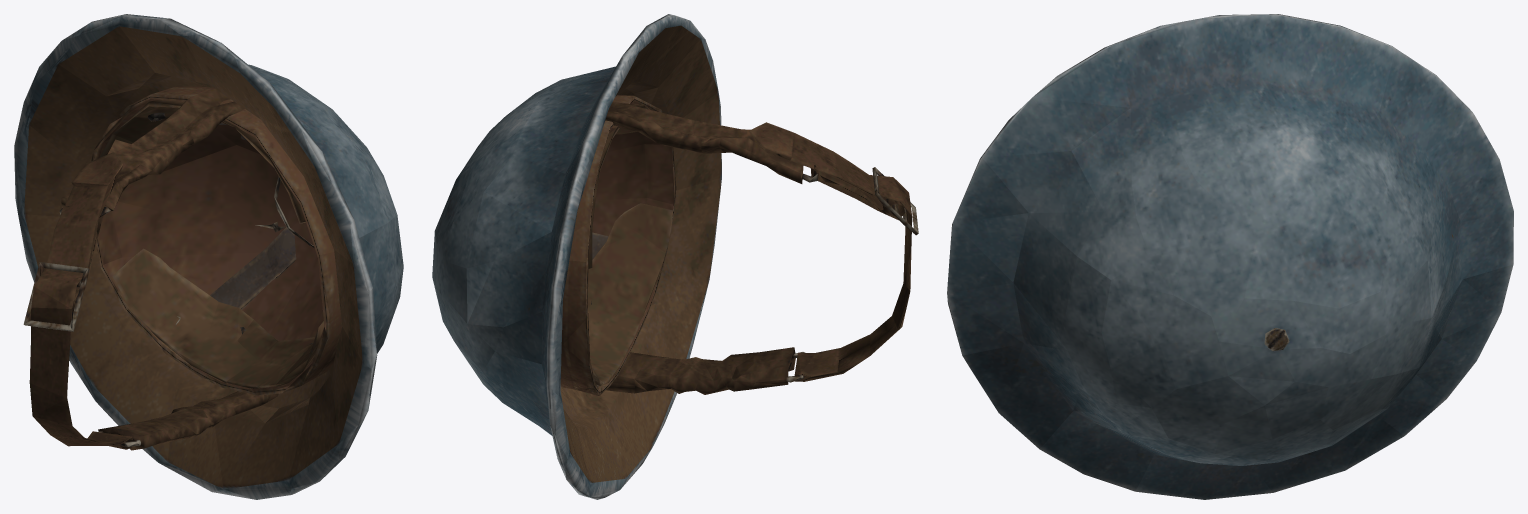
File: F_BrodieHelmet.fbx
3 views of the same model, side by side, from view 1: azimuth 30°, elevation 25°; view 2: azimuth 150°, elevation 25°; view 3: azimuth 270°, elevation 25° (orthographic). The views are drawn at different scales.
Parts seen in each view (by area): view 1: BrodieHelmet; view 2: BrodieHelmet; view 3: BrodieHelmet.
Part boxes in pixels (box(x1,y1,x2,y2)): BrodieHelmet: box(14, 14, 403, 499); BrodieHelmet: box(432, 14, 918, 499); BrodieHelmet: box(947, 14, 1513, 499).
Bounding box in the file's own units: 0.1702 × 0.1795 × 0.1924.
